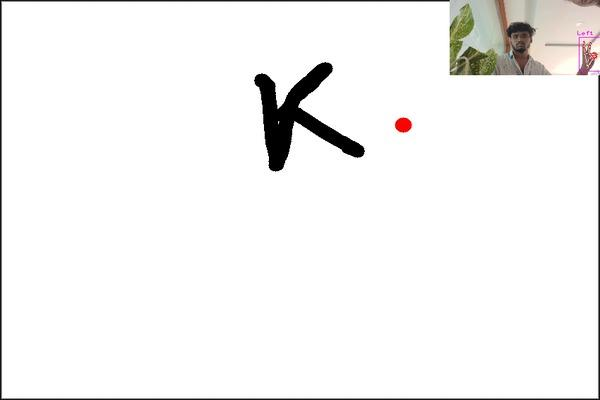K: (246, 58, 373, 175)
